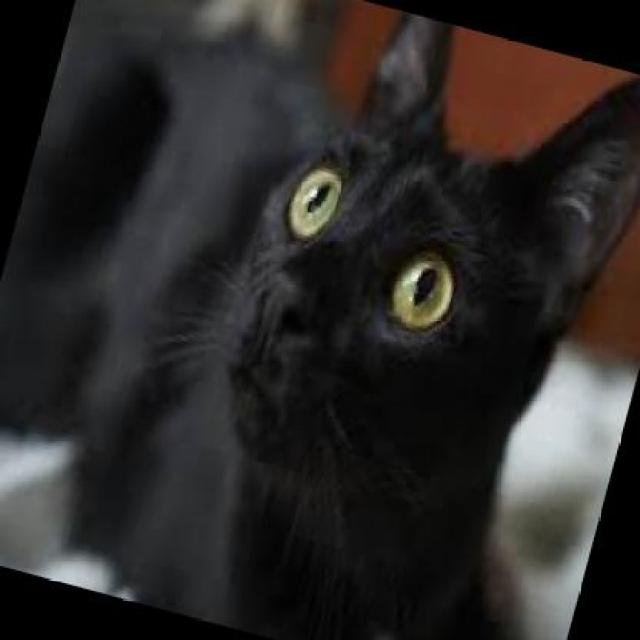animals: (83, 0, 639, 625)
